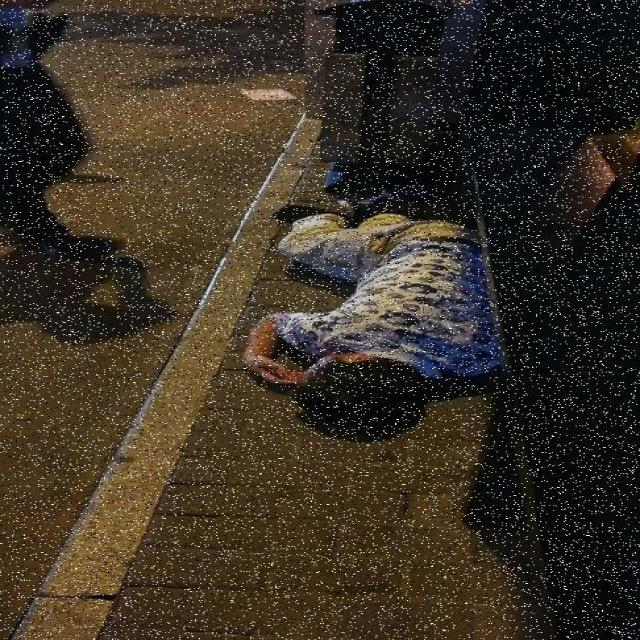fall: (218, 182, 486, 418)
